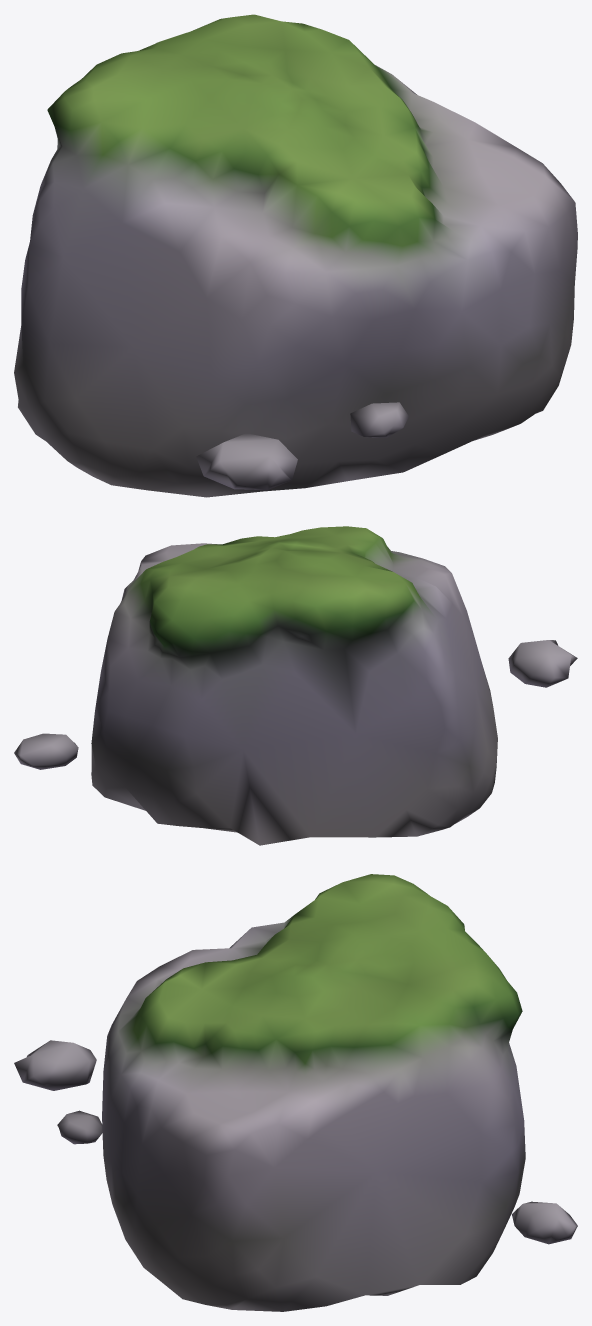
File: tree-village-rock-v0.glb
3 renders of one model, top to bottom at view 1: azimuth 30°, elevation 25°; view 2: azimuth 150°, elevation 25°; view 3: azimuth 270°, elevation 25°, orthographic. The views are drawn at different scales.
Parts seen in each view (by area): view 1: rock; view 2: rock; view 3: rock.
Part boxes in pixels (<box>): rock: <box>14,14,577,497</box>; rock: <box>14,526,577,845</box>; rock: <box>14,874,577,1311</box>.
Bounding box in the file's own units: 1.3 × 0.8247 × 1.5.
